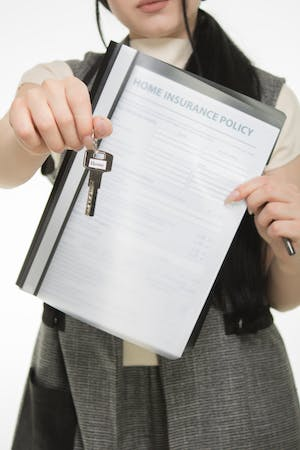key: (82, 149, 115, 218)
